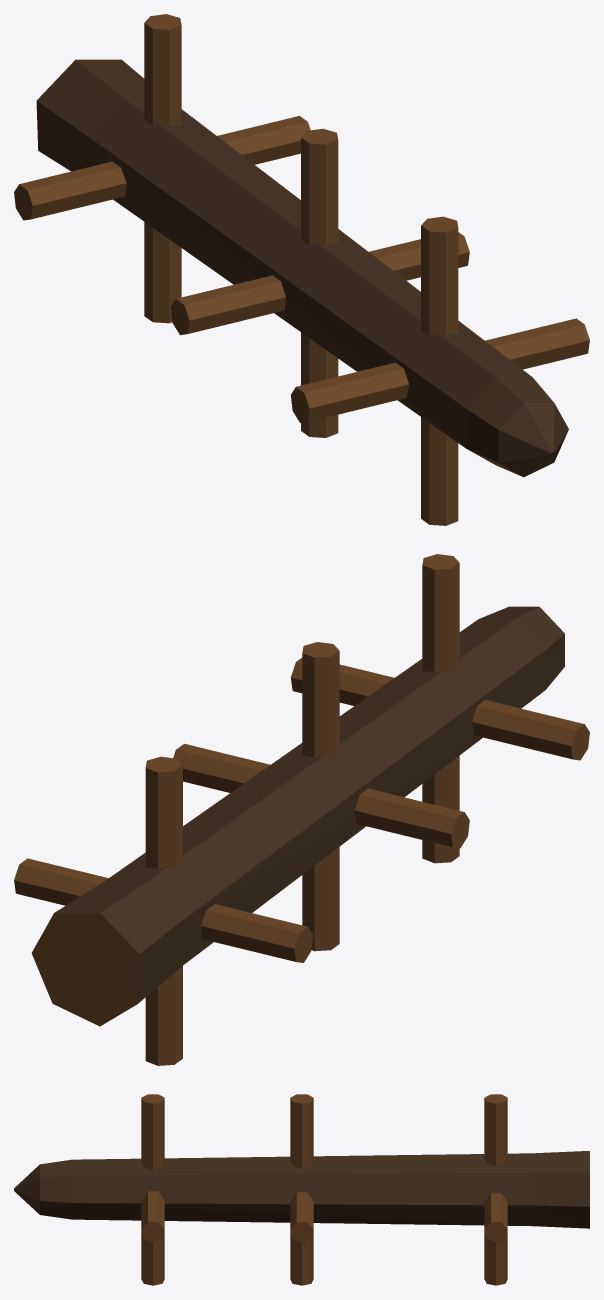
The model's file is SM_Wattle_CornerPost_1348_LOD1.obj.
The picture shows the model from 3 angles, top to bottom: view 1: azimuth 30°, elevation 25°; view 2: azimuth 150°, elevation 25°; view 3: azimuth 270°, elevation 25°; orthographic projection. The views are drawn at different scales.
Visible parts, largest first — view 1: hewn_vertical_stake, mortised_joiner_Y, mortised_joiner_X, mortised_joiner_X_cut, mortised_joiner_Y_cut; view 2: hewn_vertical_stake, mortised_joiner_Y, mortised_joiner_X, stake_bottom, mortised_joiner_X_cut, mortised_joiner_Y_cut; view 3: hewn_vertical_stake, mortised_joiner_Y, mortised_joiner_X, mortised_joiner_X_cut, mortised_joiner_Y_cut.
Part boxes in pixels (x1=…): hewn_vertical_stake: x1=36, y1=59, x2=568, y2=477; mortised_joiner_Y: x1=144, y1=23, x2=458, y2=525; mortised_joiner_X: x1=19, y1=116, x2=589, y2=421; mortised_joiner_X_cut: x1=14, y1=184, x2=309, y2=422; mortised_joiner_Y_cut: x1=144, y1=14, x2=458, y2=232; hewn_vertical_stake: x1=54, y1=606, x2=564, y2=1003; mortised_joiner_Y: x1=145, y1=563, x2=459, y2=1065; mortised_joiner_X: x1=14, y1=657, x2=584, y2=961; stake_bottom: x1=31, y1=913, x2=139, y2=1026; mortised_joiner_X_cut: x1=294, y1=724, x2=589, y2=962; mortised_joiner_Y_cut: x1=145, y1=554, x2=459, y2=772; hewn_vertical_stake: x1=14, y1=1151, x2=589, y2=1228; mortised_joiner_Y: x1=141, y1=1098, x2=507, y2=1285; mortised_joiner_X: x1=141, y1=1191, x2=507, y2=1229; mortised_joiner_X_cut: x1=141, y1=1222, x2=507, y2=1242; mortised_joiner_Y_cut: x1=142, y1=1094, x2=507, y2=1103.
Bounding box in the file's own units: 0.62 × 0.62 × 1.78.
